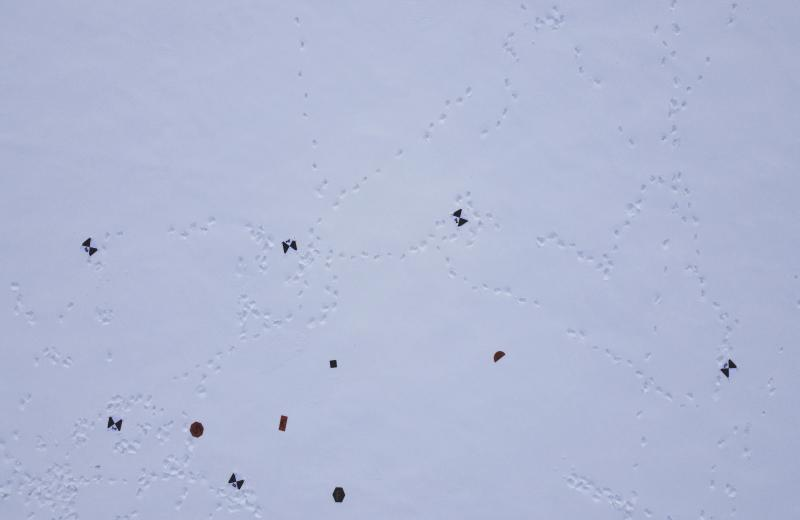Hexagon: (332, 485, 346, 504)
Octagon: (190, 421, 204, 438)
Rectangle: (278, 414, 289, 432)
Semi Circle: (492, 350, 506, 363)
Square: (329, 359, 338, 369)
